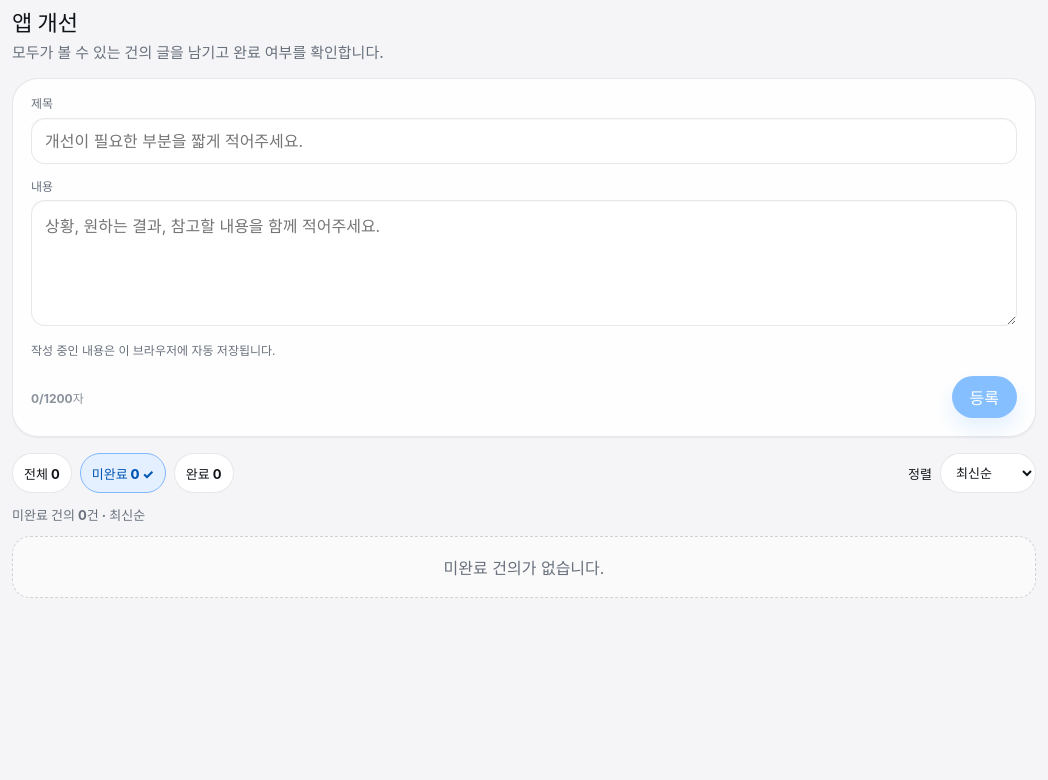
Scenario: visible suggestion filters › uses the selected filter in empty messages
Expected: the text "미완료 건의가 없습니다." is shown, [12,536,1036,598]
Expected: the message reads "미완료 건의 0건 · 최신순", [12,507,145,523]
Click the button "완료 0" at (204, 473), box [174,453,234,493]
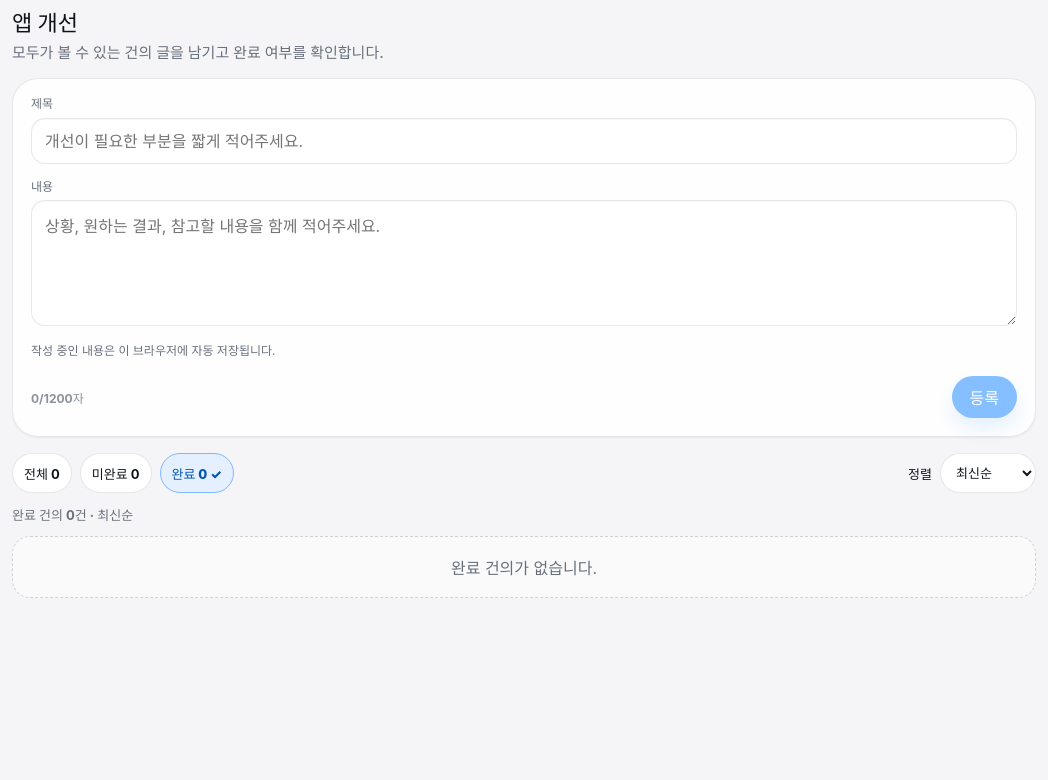
Expected: the text "완료 건의가 없습니다." is shown, [12,536,1036,598]
Click the button "전체 0" at (42, 473), box [12,453,72,493]
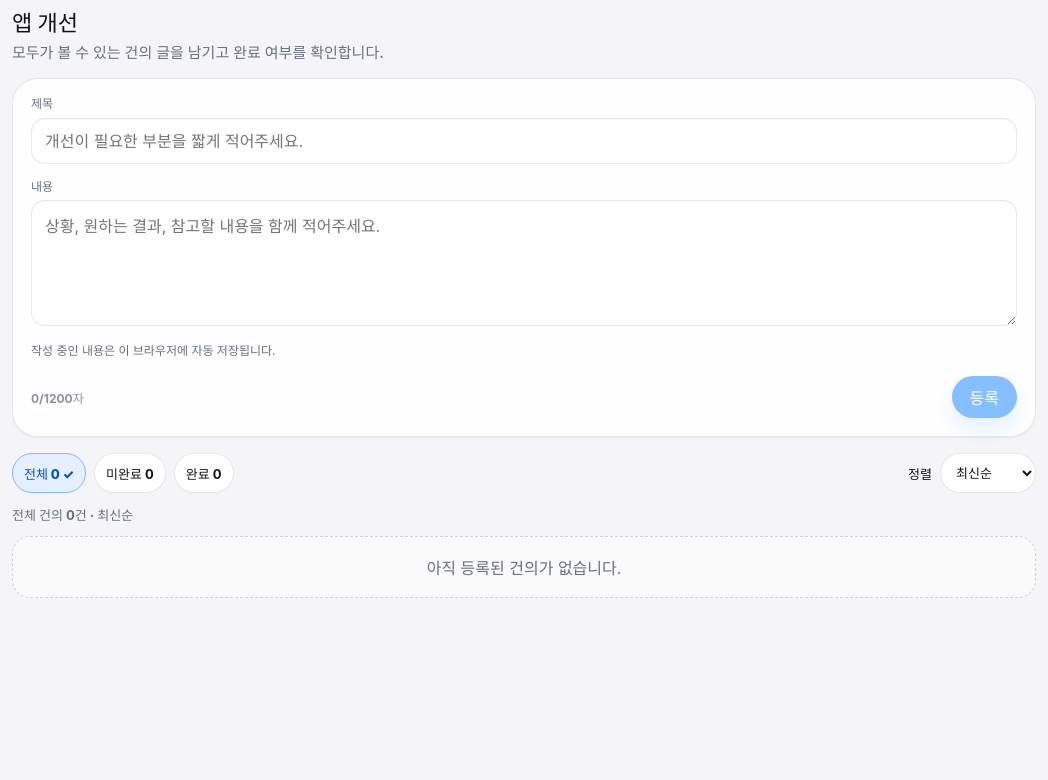
Now the text "아직 등록된 건의가 없습니다." is shown, box [12,536,1036,598]
